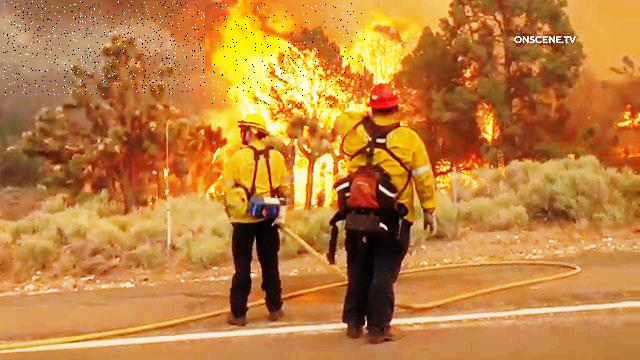fire: (212, 4, 366, 107)
smoke: (3, 2, 205, 96)
